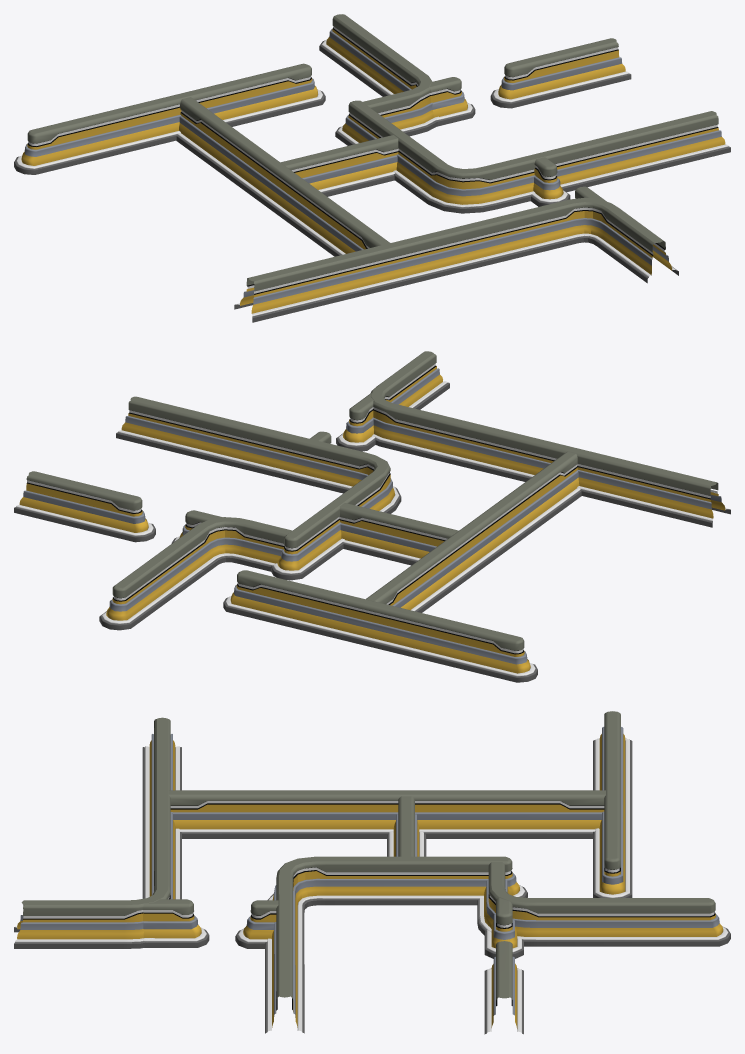
File: Level41_Small_walls.fbx
The picture shows the model from 3 angles, top to bottom: view 1: azimuth 30°, elevation 25°; view 2: azimuth 150°, elevation 25°; view 3: azimuth 270°, elevation 25°; orthographic projection. The views are drawn at different scales.
Parts seen in each view (by area): view 1: Small_wall_L66, Small_wall_L67, Small_wallv1_52, Small_wallv1_48, Small_wall_L68, Small_wallv1_51, Small_wallv1_20, Small_wallv1_50, Small_wallv1_21; view 2: Small_wall_L66, Small_wall_L67, Small_wallv1_52, Small_wallv1_48, Small_wall_L68, Small_wallv1_51, Small_wallv1_20, Small_wallv1_41; view 3: Small_wallv1_48, Small_wall_L67, Small_wall_L66, Small_wall_L68, Small_wallv1_52, Small_wallv1_41, Small_wallv1_51, Small_wallv1_20, Small_wallv1_21, Small_wallv1_50.
Part boxes in pixels (x1,y1,x2,y2): Small_wall_L66: (234, 197, 678, 322); Small_wall_L67: (335, 100, 730, 213); Small_wallv1_52: (14, 63, 325, 174); Small_wallv1_48: (176, 97, 389, 256); Small_wall_L68: (319, 14, 439, 136); Small_wallv1_51: (490, 38, 631, 108); Small_wallv1_20: (280, 135, 398, 196); Small_wallv1_50: (429, 77, 475, 126); Small_wallv1_21: (531, 157, 570, 206); Small_wall_L66: (371, 351, 730, 527); Small_wall_L67: (116, 396, 401, 580); Small_wallv1_52: (223, 570, 537, 682); Small_wallv1_48: (366, 451, 581, 612); Small_wall_L68: (99, 517, 292, 630); Small_wallv1_51: (14, 471, 155, 542); Small_wallv1_20: (339, 503, 458, 565); Small_wallv1_41: (336, 393, 375, 451); Small_wallv1_48: (168, 790, 605, 838); Small_wall_L67: (265, 856, 527, 1033); Small_wall_L66: (14, 717, 181, 948); Small_wall_L68: (477, 862, 730, 946); Small_wallv1_52: (593, 711, 632, 897); Small_wallv1_41: (133, 899, 209, 947); Small_wallv1_51: (484, 941, 523, 1034); Small_wallv1_20: (387, 796, 426, 856); Small_wallv1_21: (235, 900, 278, 948); Small_wallv1_50: (484, 897, 523, 958).
Bounding box in the file's own units: 614 × 38.63 × 626.
